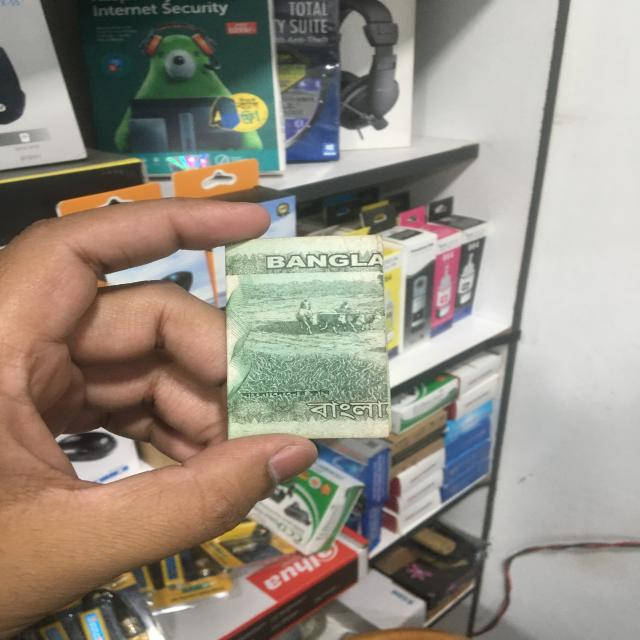Taka: (230, 240, 390, 434)
